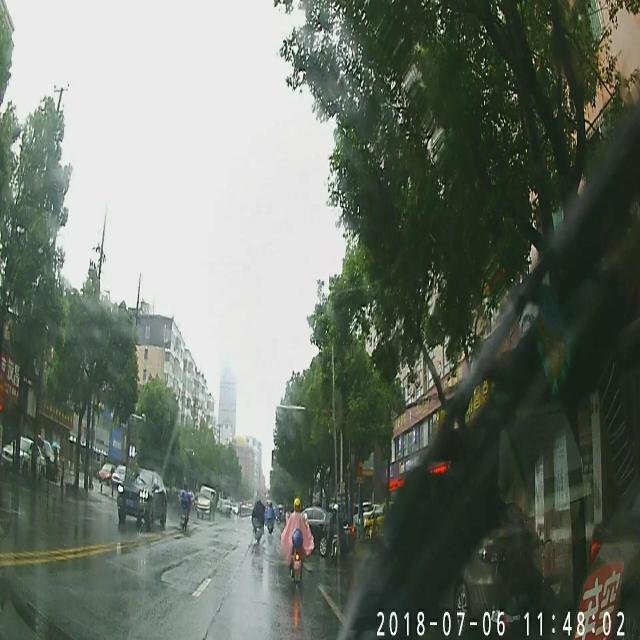car: (114, 468, 167, 526), (0, 436, 46, 479), (194, 483, 217, 522)
